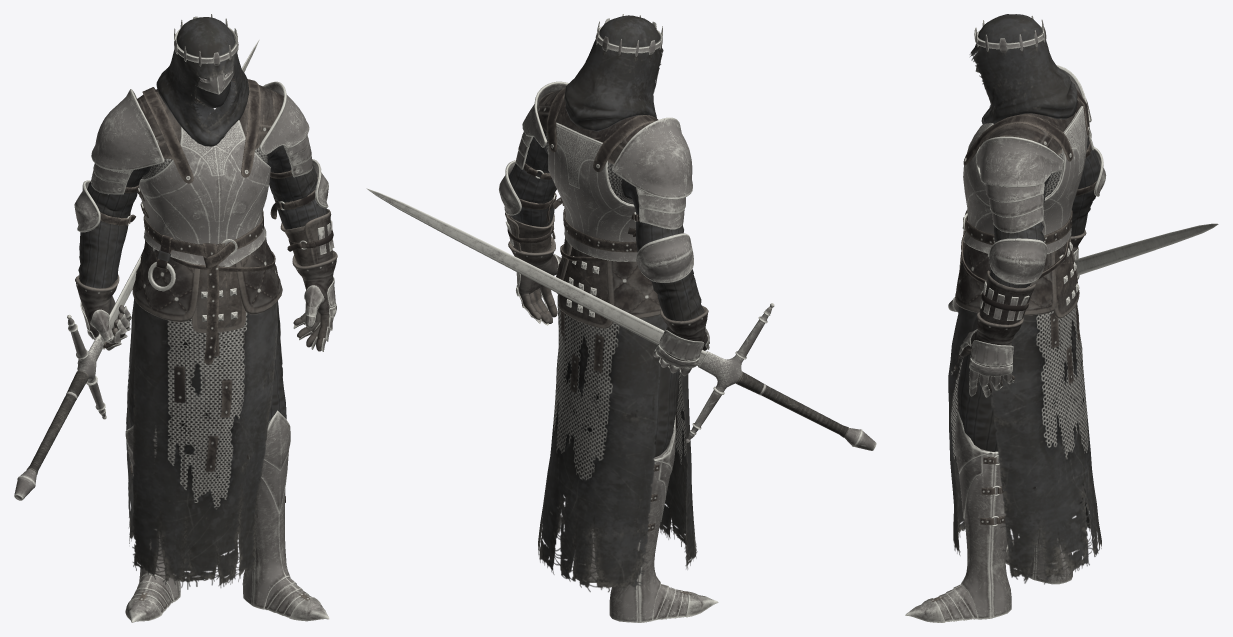
3 views of the same model, side by side, from view 1: azimuth 30°, elevation 25°; view 2: azimuth 150°, elevation 25°; view 3: azimuth 270°, elevation 25° (orthographic).
Parts seen in each view (by area): view 1: Dress_Dress_low1:Group11302, Chest_FrontPlate_low1:Group20911, Hood_Hood_low1:Group48674, Padded_Shirt_low1:Group49776, Belt_SideRing_low1:Group30502, Boot_Toe_low2:Group45608, Shoulder_Right_low1:Group15440, Belt_SideRing_low1:Group41826, Chest_TopStraps_low1:Group16616, UnderShoulder_UnderLeather_low1:Group23786, Belt_SideRing_low1:Group24290, Gloves_Gloves_low1:Group35219 (+21 smaller); view 2: Dress_Dress_low1:Group11302, Hood_Hood_low1:Group48674, Chest_BackPlate_low1:Group5865, Padded_Shirt_low1:Group49776, Shoulder_Right_low1:Group15440, Merged_Sword_Sides_low1:Group62261, Boot_Toe_low1:Group45608, Belt_SideRing_low1:Group30502, Shoulder_Elbow_low2:Group60197, Belt_SideRing_low1:Group6118, Gloves_Gloves_low1:Group35219, Padded_Pants_low1:Group5200 (+13 smaller); view 3: Dress_Dress_low1:Group11302, Hood_Hood_low1:Group48674, Boot_Toe_low2:Group45608, Shoulder_Left_low1:Group39818, Chest_BackPlate_low1:Group5865, Belt_SideRing_low1:Group30502, Padded_Shirt_low1:Group49776, Shoulder_Elbow_low1:Group60197, Padded_Pants_low1:Group5200, Chest_FrontPlate_low1:Group20911, Merged_Sword_Sides_low1:Group62261, Chest_TopStraps_low1:Group16616 (+14 smaller).
Part boxes in pixels (x1,y1,x2,y2): Dress_Dress_low1:Group11302: (126, 249, 282, 589); Chest_FrontPlate_low1:Group20911: (139, 120, 270, 266); Hood_Hood_low1:Group48674: (156, 17, 249, 146); Padded_Shirt_low1:Group49776: (78, 145, 327, 288); Belt_SideRing_low1:Group30502: (132, 237, 282, 322); Boot_Toe_low2:Group45608: (241, 410, 290, 609); Shoulder_Right_low1:Group15440: (91, 89, 164, 171); Belt_SideRing_low1:Group41826: (143, 210, 263, 364); Chest_TopStraps_low1:Group16616: (142, 79, 260, 183); UnderShoulder_UnderLeather_low1:Group23786: (136, 78, 283, 159); Belt_SideRing_low1:Group24290: (192, 264, 246, 332); Gloves_Gloves_low1:Group35219: (292, 250, 337, 351); Dress_Dress_low1:Group11302: (538, 294, 697, 592); Hood_Hood_low1:Group48674: (564, 15, 663, 131); Chest_BackPlate_low1:Group5865: (548, 122, 637, 261); Padded_Shirt_low1:Group49776: (508, 129, 704, 321); Shoulder_Right_low1:Group15440: (612, 117, 692, 199); Merged_Sword_Sides_low1:Group62261: (366, 188, 706, 365); Boot_Toe_low1:Group45608: (609, 415, 675, 622); Belt_SideRing_low1:Group30502: (556, 237, 661, 318); Shoulder_Elbow_low2:Group60197: (636, 233, 693, 282); Belt_SideRing_low1:Group6118: (558, 246, 612, 328); Gloves_Gloves_low1:Group35219: (508, 236, 558, 323); Padded_Pants_low1:Group5200: (625, 325, 679, 457); Dress_Dress_low1:Group11302: (948, 303, 1101, 584); Hood_Hood_low1:Group48674: (969, 14, 1077, 124); Boot_Toe_low2:Group45608: (954, 411, 1011, 619); Shoulder_Left_low1:Group39818: (976, 136, 1064, 187); Chest_BackPlate_low1:Group5865: (1041, 106, 1087, 254); Belt_SideRing_low1:Group30502: (955, 237, 1077, 315); Padded_Shirt_low1:Group49776: (989, 135, 1100, 288); Shoulder_Elbow_low1:Group60197: (989, 238, 1047, 284); Padded_Pants_low1:Group5200: (957, 317, 998, 451); Chest_FrontPlate_low1:Group20911: (963, 123, 994, 253); Merged_Sword_Sides_low1:Group62261: (1075, 223, 1218, 275); Chest_TopStraps_low1:Group16616: (963, 88, 1089, 164).
Bounding box in the file's own units: 125 × 183 × 91.31.
3 materials, 3 textured.
